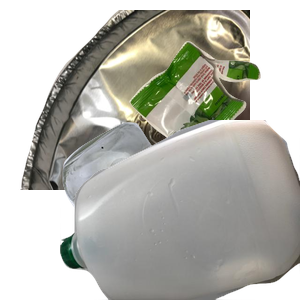glass: (60, 120, 300, 300)
metal: (18, 10, 258, 190)
plastic: (60, 120, 300, 300)
trash: (127, 39, 300, 193)
